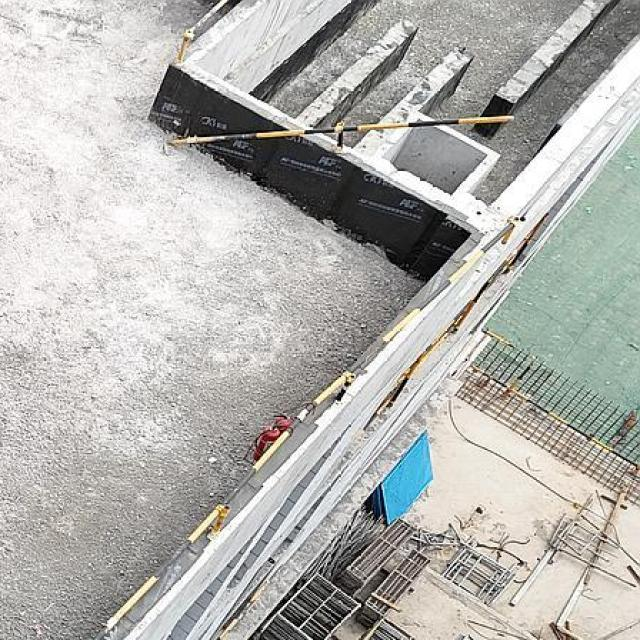edge_guardrail: (93, 221, 517, 639), (385, 211, 551, 409), (166, 115, 514, 148), (177, 1, 229, 62)
